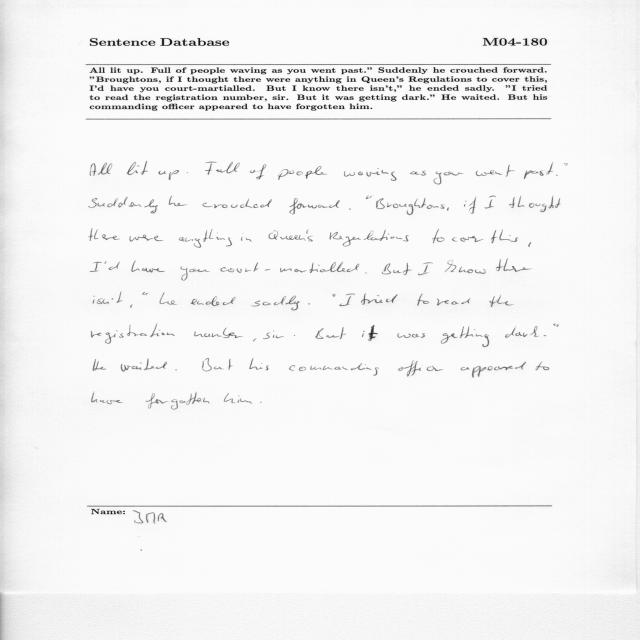word: (91, 324, 175, 344), (221, 261, 360, 273), (289, 363, 379, 376), (376, 198, 444, 215), (146, 392, 210, 410), (343, 230, 409, 247), (89, 197, 158, 213), (461, 362, 526, 378), (179, 229, 232, 248), (441, 327, 489, 347), (269, 230, 344, 242), (509, 196, 561, 212), (289, 198, 340, 214), (398, 360, 443, 377), (251, 296, 300, 311), (278, 166, 327, 180), (344, 168, 396, 181), (202, 199, 272, 208), (121, 359, 167, 372), (445, 260, 486, 274), (524, 162, 553, 179), (194, 328, 242, 338), (190, 296, 236, 306), (476, 165, 514, 177), (205, 162, 240, 175), (496, 259, 530, 272), (131, 261, 165, 273), (505, 326, 539, 338), (181, 267, 210, 281), (89, 228, 120, 241), (202, 359, 233, 372), (361, 294, 397, 305), (434, 172, 464, 185), (315, 327, 346, 339), (382, 263, 412, 275), (492, 230, 519, 243), (93, 292, 122, 304), (92, 393, 123, 404), (90, 162, 112, 176), (126, 161, 148, 175), (489, 295, 513, 307), (437, 298, 471, 306), (362, 325, 378, 341), (250, 164, 266, 179), (249, 359, 269, 371), (130, 235, 164, 242), (160, 292, 177, 305), (158, 170, 179, 180), (464, 197, 476, 214), (432, 229, 445, 244), (418, 263, 433, 276), (339, 294, 355, 306), (169, 196, 188, 206), (452, 236, 483, 242), (263, 331, 284, 339), (224, 393, 240, 403), (93, 359, 106, 371), (417, 294, 429, 306), (485, 196, 496, 209), (397, 333, 425, 338), (105, 261, 120, 270), (90, 262, 102, 272), (536, 362, 550, 370), (241, 234, 252, 242), (410, 171, 426, 176), (240, 399, 252, 404), (366, 196, 372, 199), (142, 292, 148, 295), (553, 324, 559, 327), (529, 242, 532, 247), (564, 163, 568, 166), (130, 304, 133, 308), (332, 294, 336, 297), (253, 339, 257, 342), (447, 207, 449, 211), (349, 208, 351, 210), (365, 272, 367, 274), (175, 369, 177, 371), (556, 175, 558, 176), (308, 304, 310, 305), (544, 335, 546, 336), (187, 172, 188, 173), (294, 335, 295, 336)
